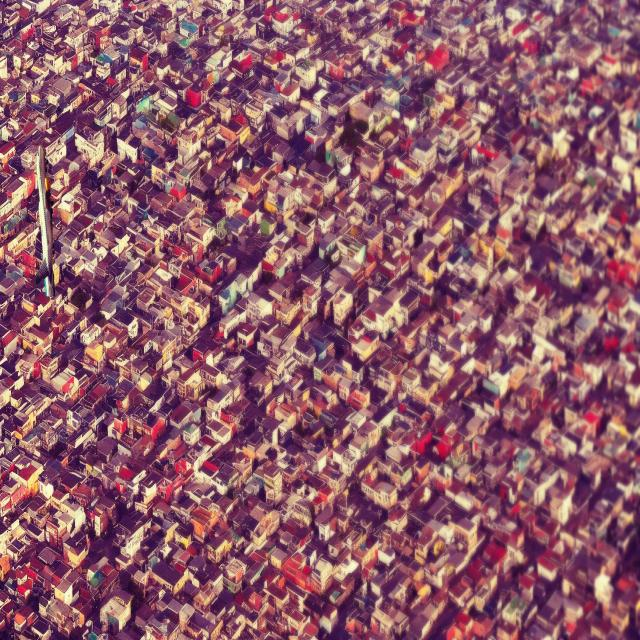airplane: (34, 144, 56, 299)
